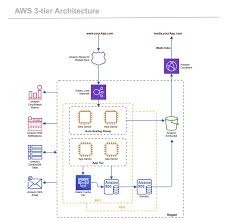cloudfront: (164, 59, 178, 74)
ec2: (104, 110, 118, 125), (79, 142, 93, 156), (78, 110, 92, 124), (104, 142, 118, 156)
elasticache: (76, 176, 90, 190)
elb: (91, 85, 106, 99)
rds: (136, 179, 152, 195), (103, 179, 119, 195)
route 53: (90, 51, 107, 65)
s3: (164, 114, 179, 132)
